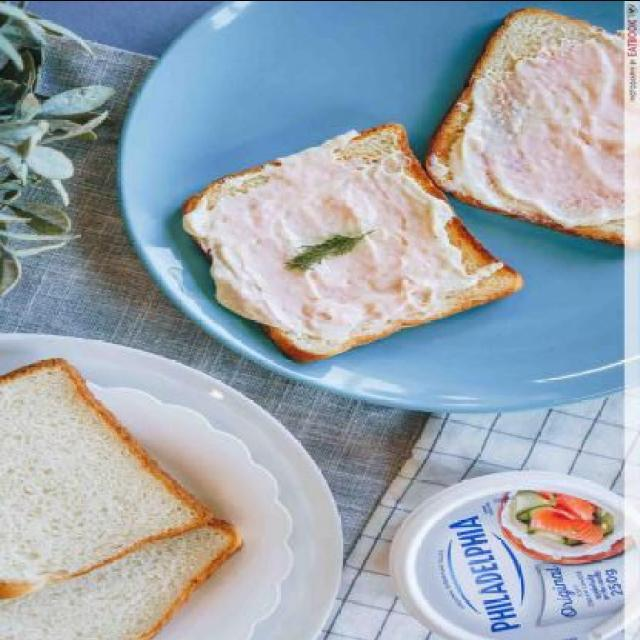Spread: (200, 144, 460, 352), (463, 43, 640, 214)
